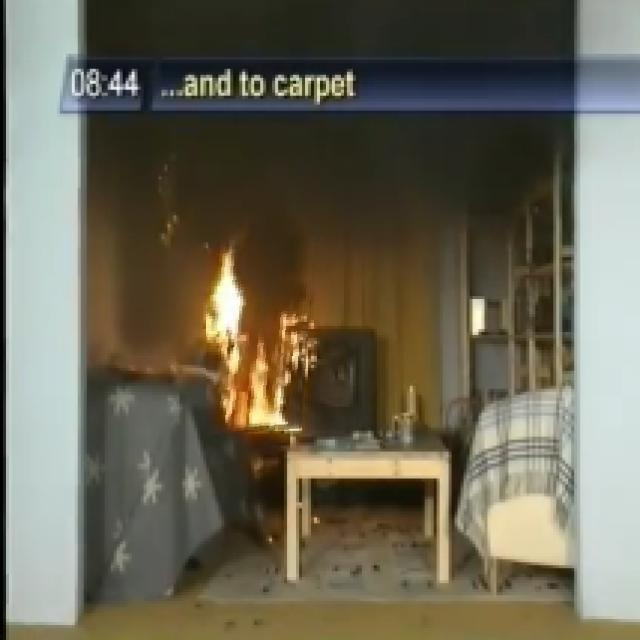fire: (187, 226, 276, 344)
